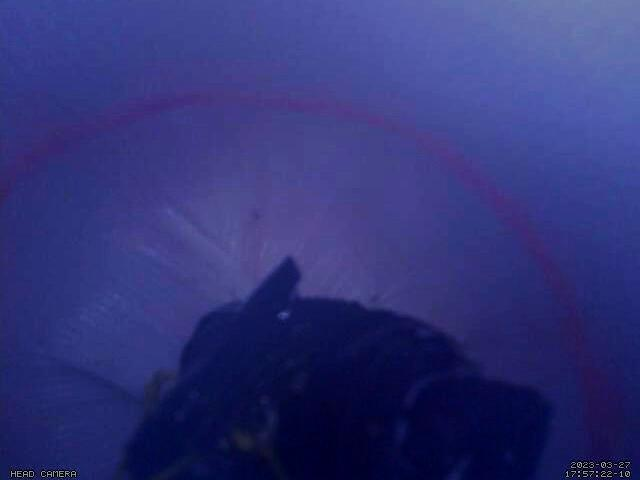head: (0, 87, 618, 480)
